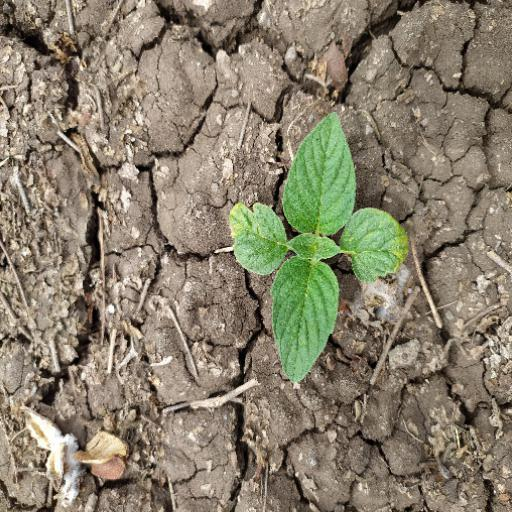crop: (219, 115, 431, 399)
